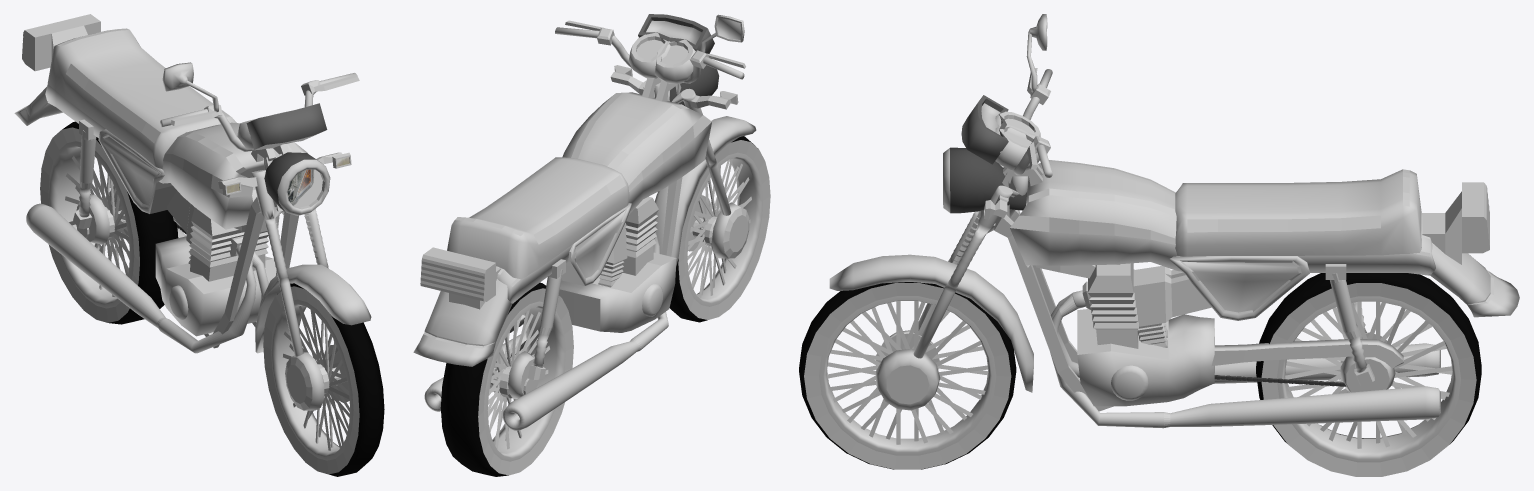
Rendered from Mota.fbx.
3 views of the same model, side by side, from view 1: azimuth 30°, elevation 25°; view 2: azimuth 150°, elevation 25°; view 3: azimuth 270°, elevation 25° (orthographic). The views are drawn at different scales.
Visible parts, largest first — view 1: Plane, Cylinder, Cylinder.001, Cylinder.002; view 2: Plane, Cylinder, Cylinder.002, Cylinder.001; view 3: Plane, Cylinder, Cylinder.002, Cylinder.001, Plane.001.
Part boxes in pixels (x1=…): Plane: x1=14, y1=14, x2=307, y2=353; Cylinder: x1=160, y1=62, x2=371, y2=410; Cylinder.001: x1=263, y1=283, x2=384, y2=476; Cylinder.002: x1=40, y1=121, x2=178, y2=324; Plane: x1=413, y1=92, x2=711, y2=430; Cylinder: x1=555, y1=14, x2=756, y2=266; Cylinder.002: x1=440, y1=282, x2=573, y2=476; Cylinder.001: x1=669, y1=136, x2=770, y2=322; Plane: x1=994, y1=160, x2=1519, y2=428; Cylinder: x1=829, y1=14, x2=1052, y2=410; Cylinder.002: x1=1256, y1=273, x2=1481, y2=476; Cylinder.001: x1=799, y1=282, x2=1016, y2=469; Plane.001: x1=1211, y1=339, x2=1403, y2=386.
Size of the model in its own units: 234 by 435 by 695.
